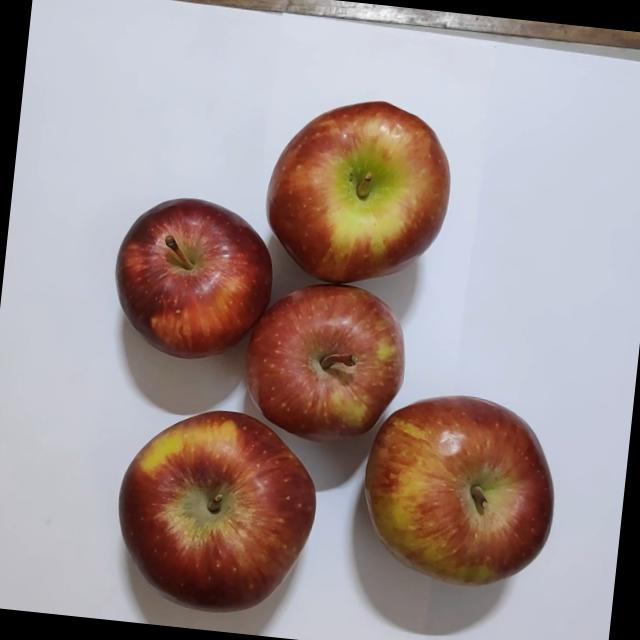apple: (95, 394, 336, 630), (350, 380, 572, 606), (255, 86, 462, 298), (228, 270, 416, 458), (101, 190, 283, 376)
